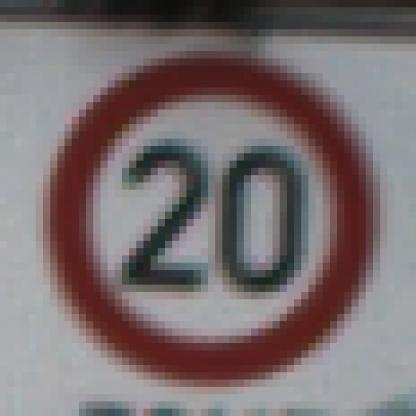Speed Limit 20: (47, 54, 377, 384)
